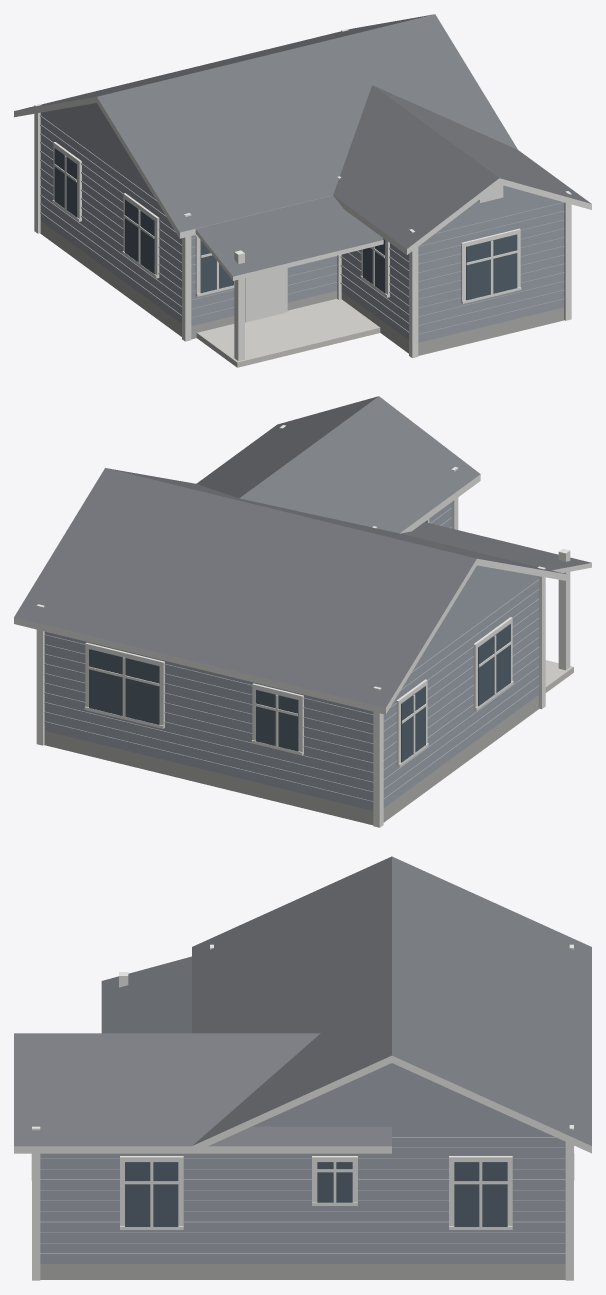
Rendered from plum-cottage.glb.
The picture shows the model from 3 angles, top to bottom: view 1: azimuth 30°, elevation 25°; view 2: azimuth 150°, elevation 25°; view 3: azimuth 270°, elevation 25°; orthographic projection. The views are drawn at different scales.
Visible parts, largest first — view 1: The Plum (cottage); view 2: The Plum (cottage); view 3: The Plum (cottage).
Boxes of the visible parts, x1,y1,x2,y2 form: The Plum (cottage): (14,14,591,367); The Plum (cottage): (14,396,591,827); The Plum (cottage): (14,856,591,1280).
Bounding box in the file's own units: 8.08 × 4.42 × 9.9.
